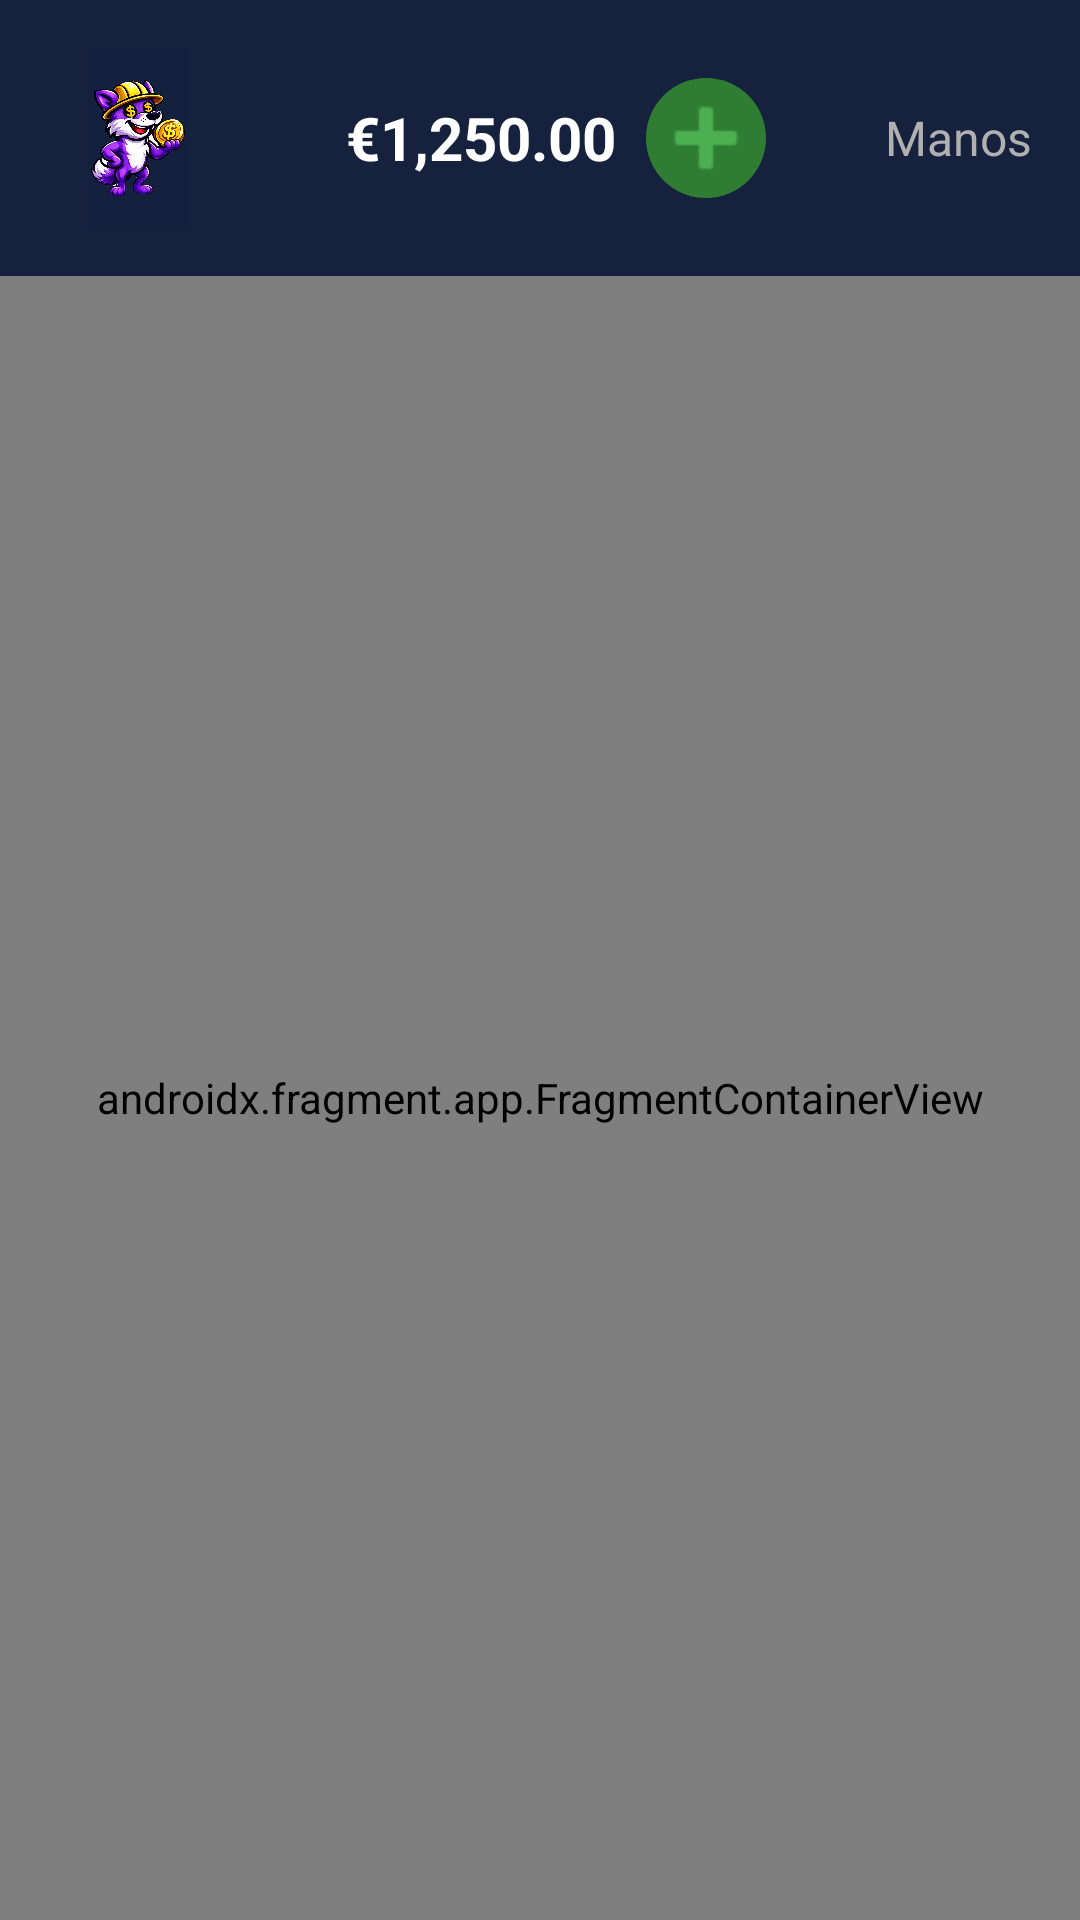

Icons on this 1080px×1920px Android screen, each with the point to tap as (x=x, y=y):
Add balance: (x=706, y=138)
